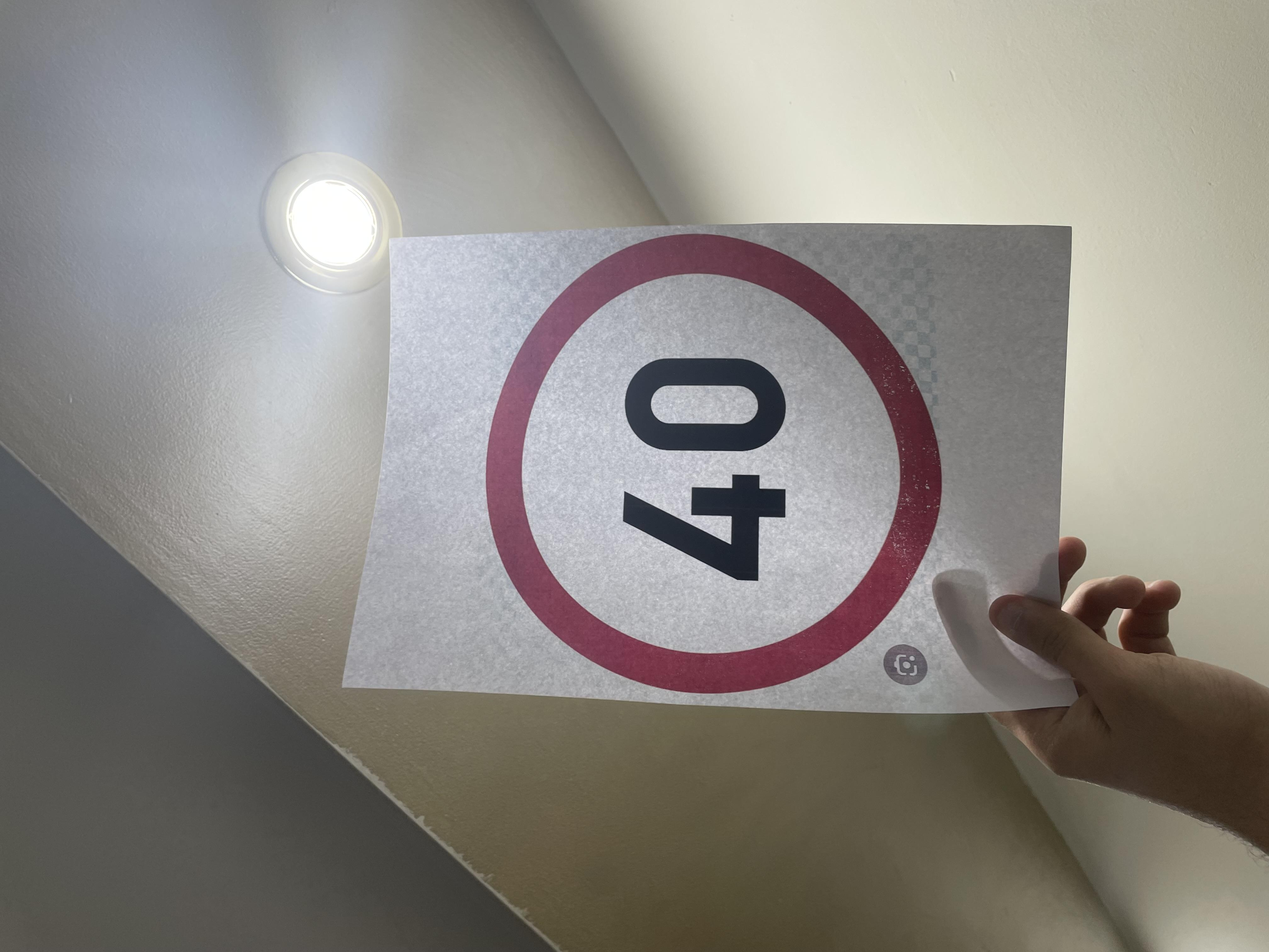40-Speed: (362, 369, 962, 700)
